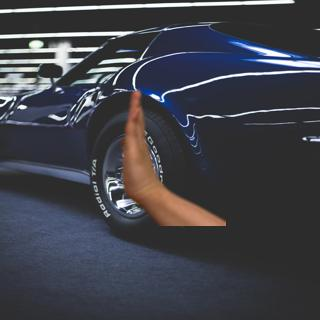RIGHT: (115, 86, 160, 204)
